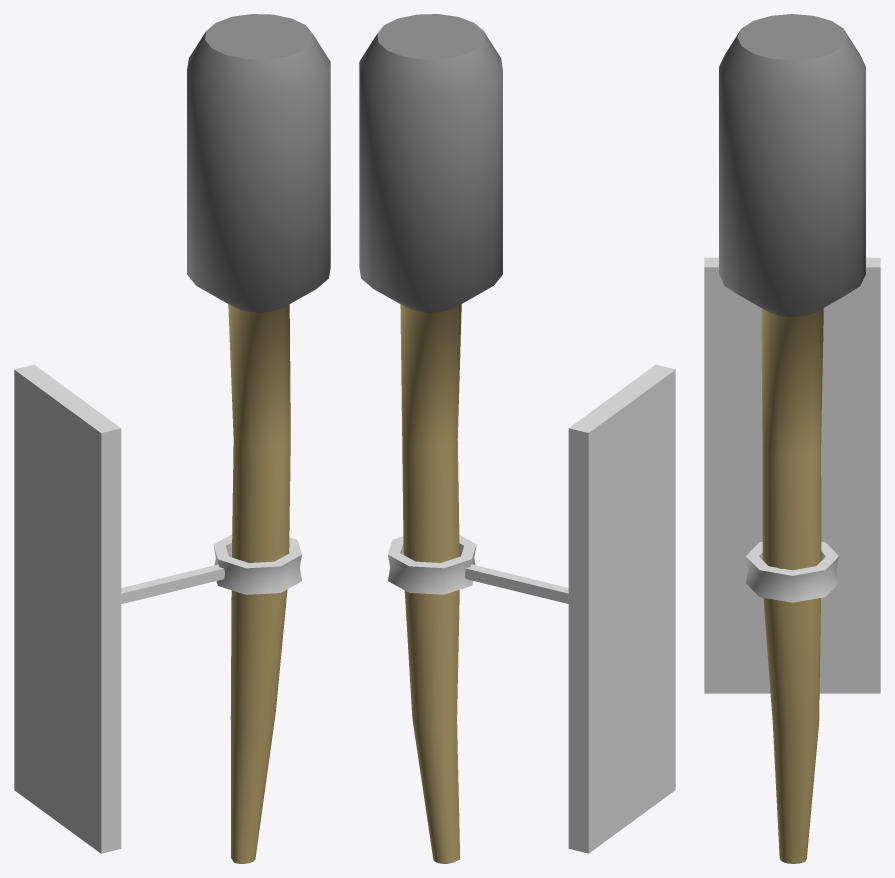
Rendered from Torch.fbx.
The picture shows the model from 3 angles, left to right: view 1: azimuth 30°, elevation 25°; view 2: azimuth 150°, elevation 25°; view 3: azimuth 270°, elevation 25°; orthographic projection.
Visible parts, largest first — view 1: Torch, Holder.001, Holder, Bar; view 2: Torch, Holder.001, Holder, Bar; view 3: Torch, Holder.001, Holder.
Boxes of the visible parts, x1=… form: Torch: x1=187, y1=14, x2=330, y2=863; Holder.001: x1=14, y1=364, x2=121, y2=853; Holder: x1=213, y1=534, x2=302, y2=594; Bar: x1=121, y1=564, x2=224, y2=603; Torch: x1=359, y1=14, x2=502, y2=863; Holder.001: x1=568, y1=364, x2=675, y2=853; Holder: x1=388, y1=535, x2=476, y2=594; Bar: x1=465, y1=564, x2=568, y2=603; Torch: x1=719, y1=14, x2=865, y2=863; Holder.001: x1=704, y1=257, x2=880, y2=693; Holder: x1=746, y1=541, x2=838, y2=602.
Bounding box in the file's own units: 35.48 × 105 × 20.25.
